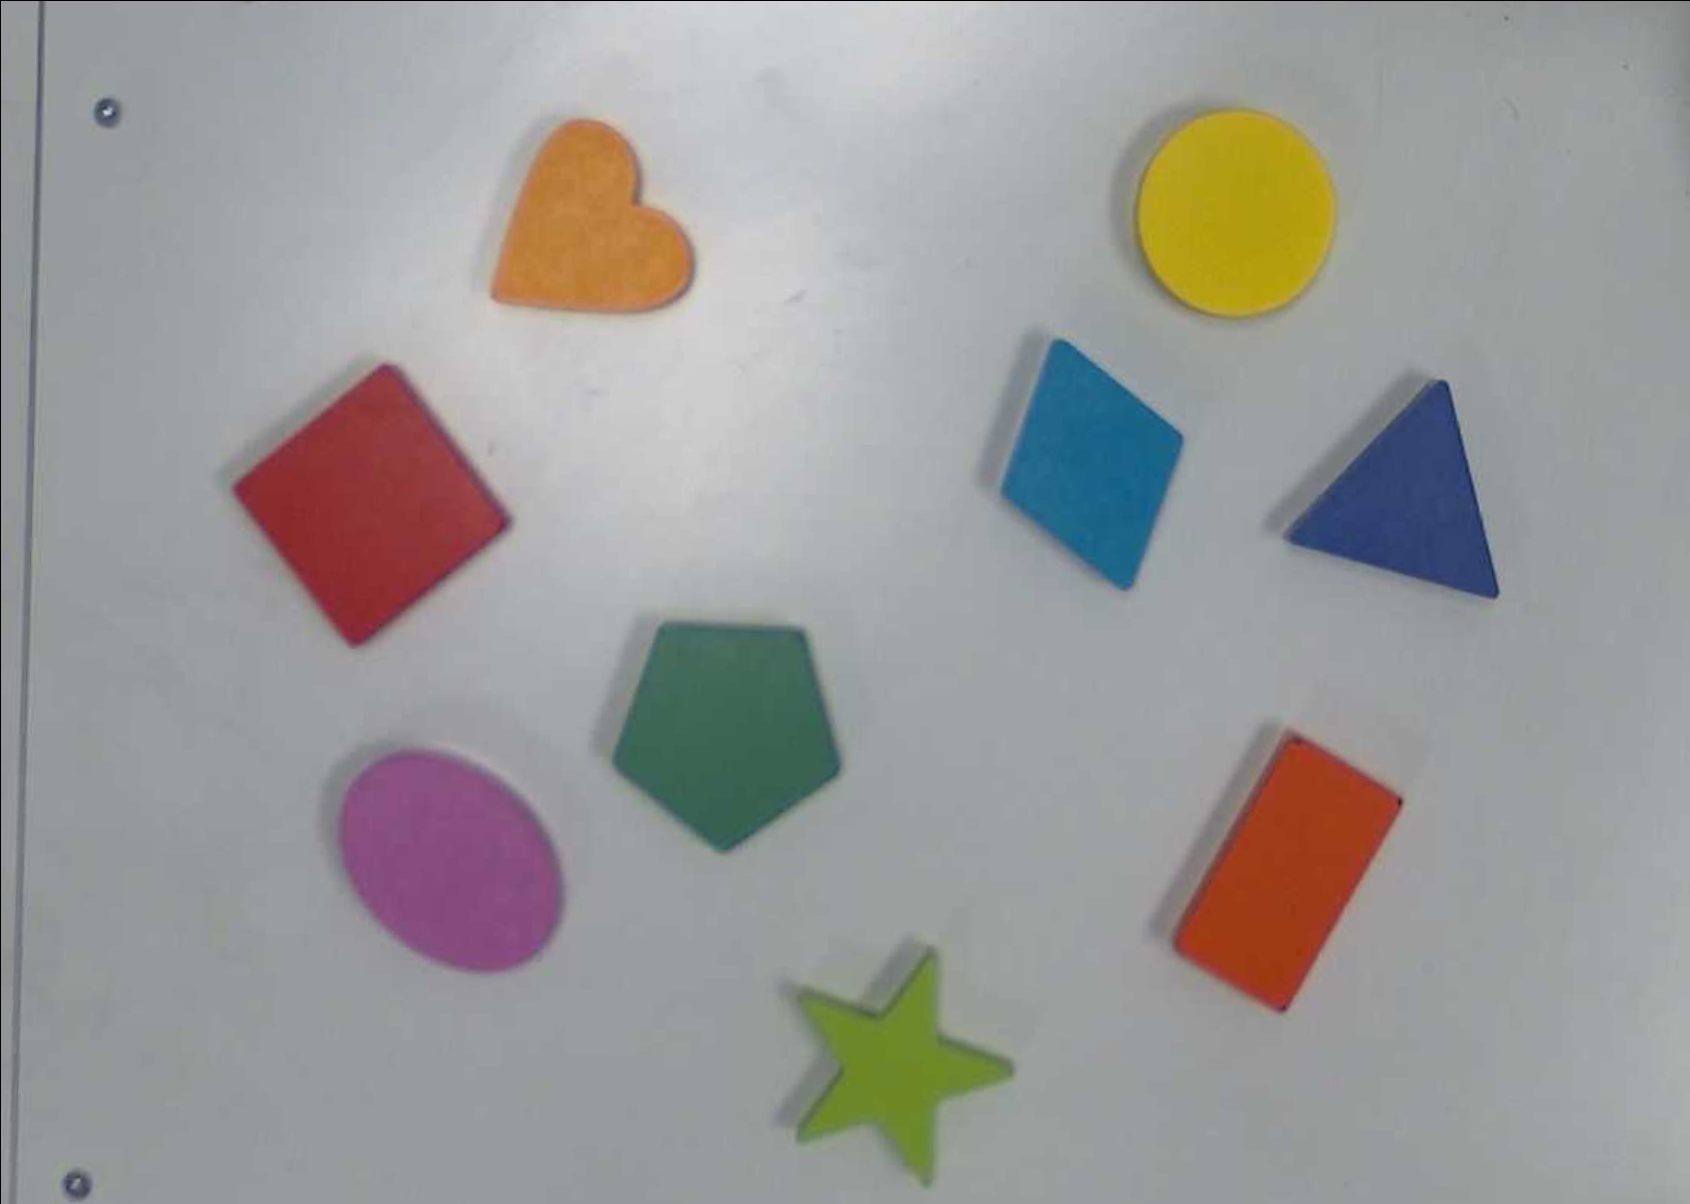Circle: (1132, 106, 1337, 323)
Ellipse: (332, 744, 566, 977)
Heart: (487, 113, 698, 318)
Parallelogram: (993, 334, 1188, 598)
Pentagon: (611, 616, 846, 852)
Rectangle: (1167, 728, 1407, 1016)
Square: (228, 360, 517, 650)
Star: (792, 941, 1018, 1192)
Triangle: (1280, 374, 1523, 598)
